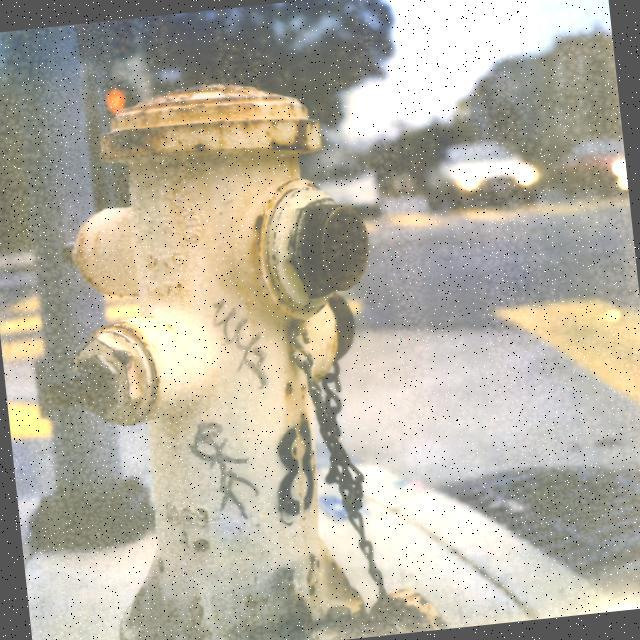fire_hydrant: (17, 58, 448, 640)
